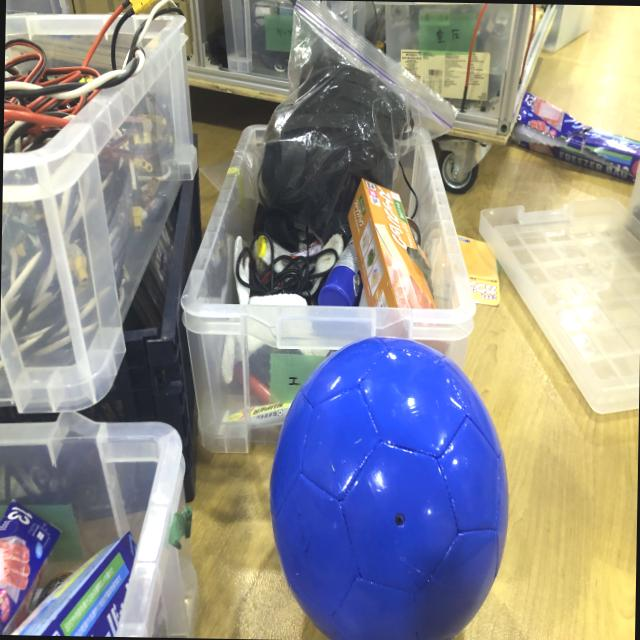blue_ball: (266, 332, 510, 640)
